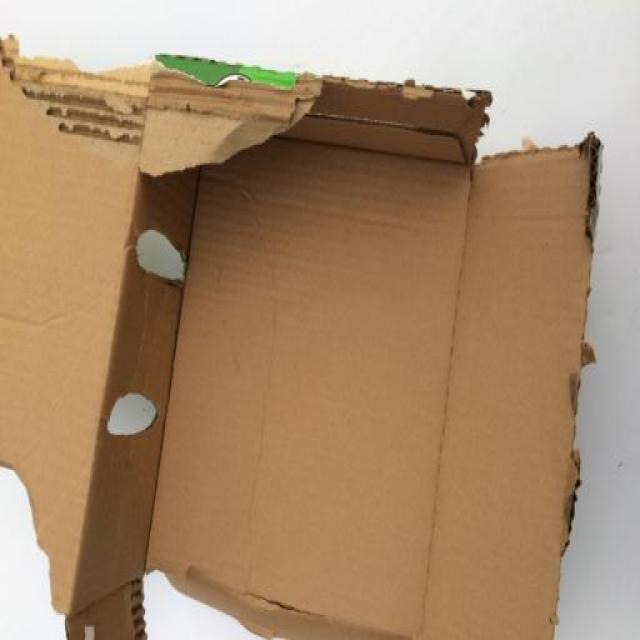cardboard: (1, 24, 619, 640)
